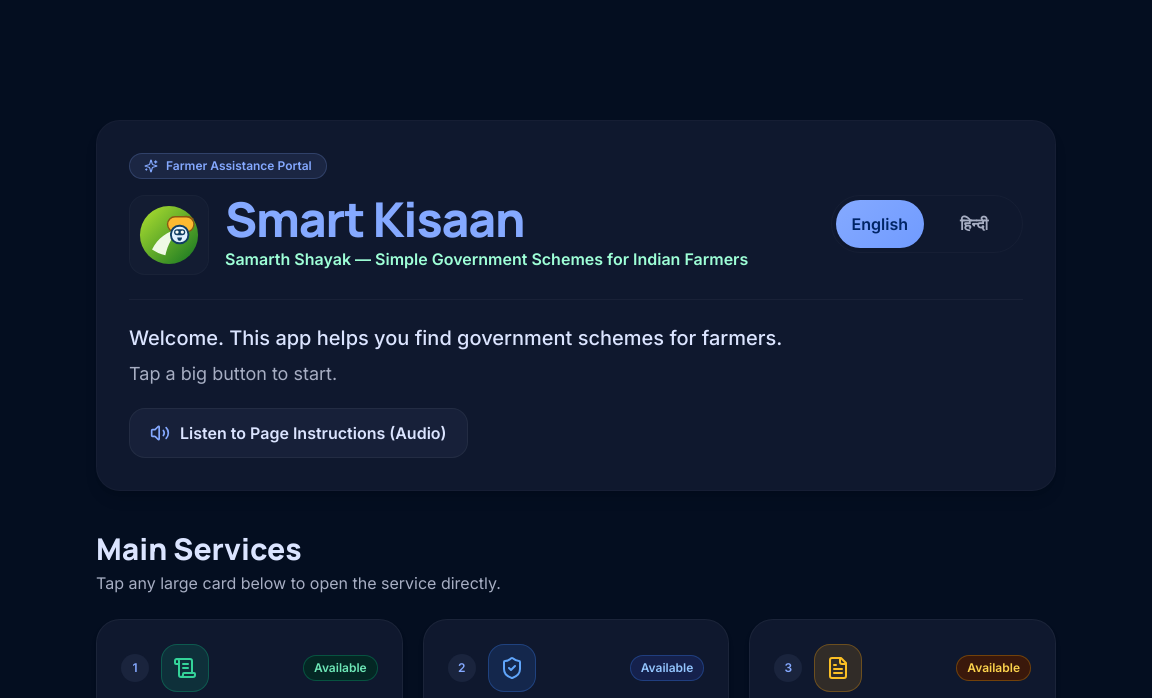
Test case: Phase 1 — Feature 2: Hindi-English Language Switching › switches to Hindi immediately and saves preference to localStorage
What coordinates should you click on to do the following:
click the button "हिन्दी"
I would click on:
 (974, 224)
Its box is left=930, top=200, right=1018, bottom=248.
(page scrolled)
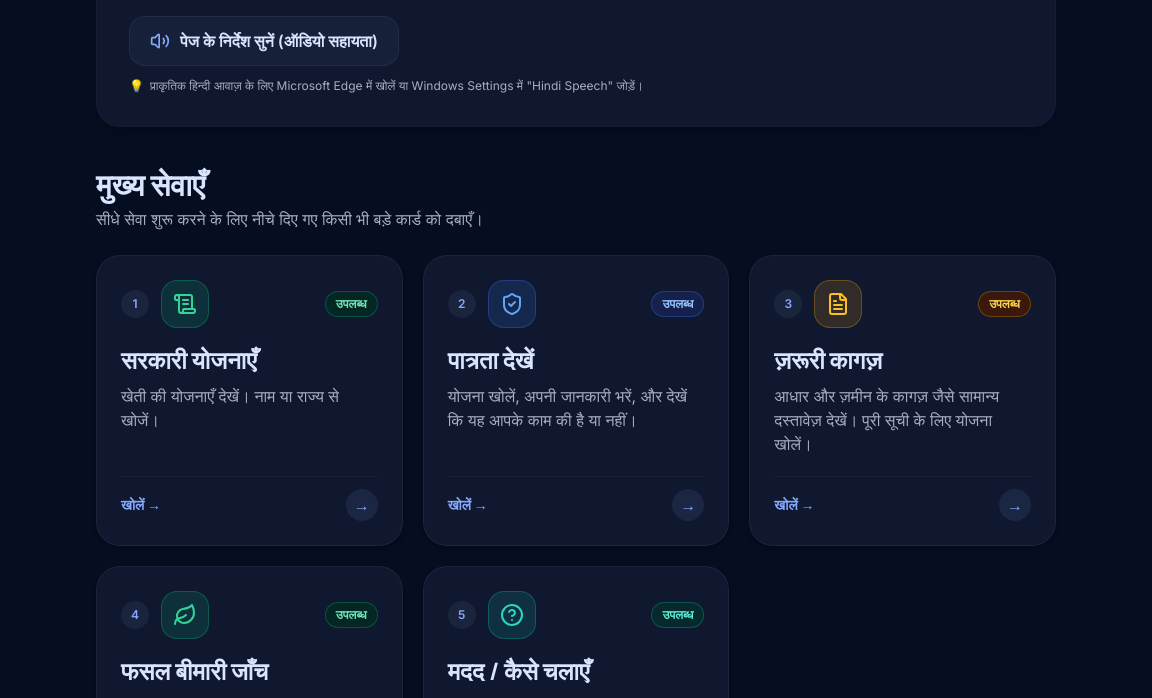
Check: the heading "सरकारी योजनाएँ" is shown, box left=121, top=343, right=257, bottom=376
Check: the heading "पात्रता देखें" is shown, box left=448, top=343, right=534, bottom=376
Check: the heading "ज़रूरी कागज़" is shown, box left=774, top=343, right=882, bottom=376
